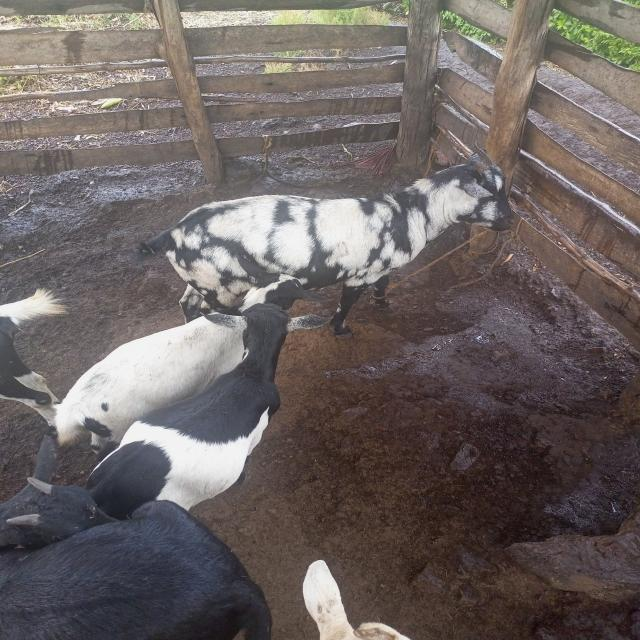goat: (80, 110, 576, 348)
